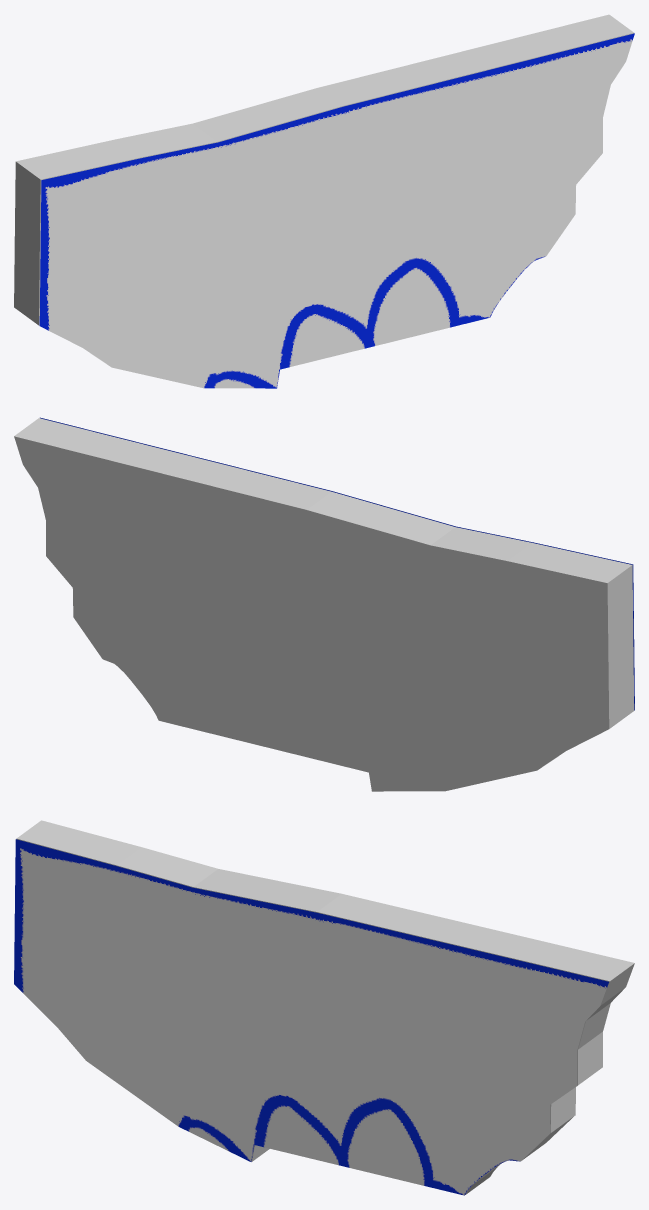
3 views of the same model, one above another, from view 1: azimuth 30°, elevation 25°; view 2: azimuth 150°, elevation 25°; view 3: azimuth 330°, elevation 25° (orthographic).
Visible parts, largest first — view 1: Out_4_1, Out_4_0; view 2: Out_4_0, Out_4_1; view 3: Out_4_1, Out_4_0.
Boxes of the visible parts, box(x1,y1,x2,y2) form: Out_4_1: box(39, 33, 634, 388); Out_4_0: box(14, 14, 633, 325); Out_4_0: box(14, 418, 634, 791); Out_4_1: box(40, 417, 634, 710); Out_4_1: box(14, 839, 608, 1195); Out_4_0: box(16, 820, 634, 1194).
Bounding box in the file's own units: 6.88 × 2.96 × 0.515.
Materials: 2 (1 with a texture image).
